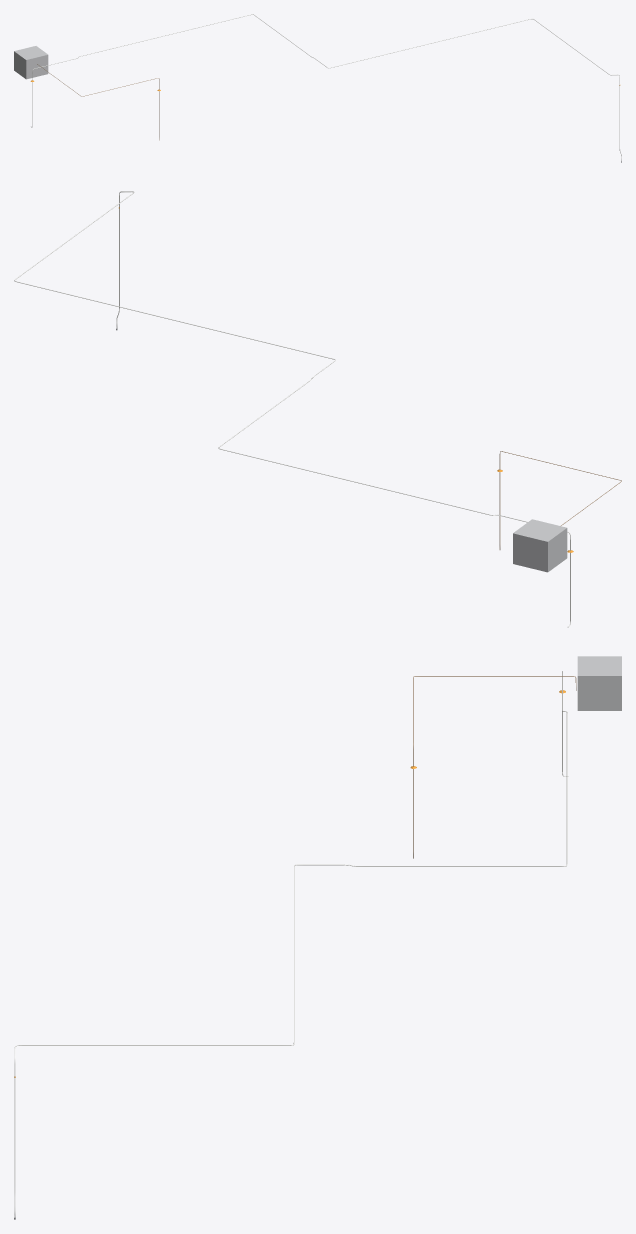
Rendered from pipes_hvac__hvac-split_furnace+split_furnace_92+split_furnace_cond96+split_furnace_98.glb.
3 renders of one model, top to bottom at view 1: azimuth 30°, elevation 25°; view 2: azimuth 150°, elevation 25°; view 3: azimuth 270°, elevation 25°, orthographic. The views are drawn at different scales.
Visible parts, largest first — view 1: duct_hvac_plenum_riser, cable_hvac_furnace_feed; view 2: duct_hvac_plenum_riser, cable_hvac_furnace_feed; view 3: duct_hvac_plenum_riser, cable_hvac_furnace_feed.
Part boxes in pixels (<box>): duct_hvac_plenum_riser: <box>14,46,48,79</box>; cable_hvac_furnace_feed: <box>31,14,621,161</box>; duct_hvac_plenum_riser: <box>513,519,567,572</box>; cable_hvac_furnace_feed: <box>14,191,570,627</box>; duct_hvac_plenum_riser: <box>577,656,621,710</box>; cable_hvac_furnace_feed: <box>14,671,568,1217</box>.
Size of the model in its own units: 11.32 by 2.36 by 7.47.
